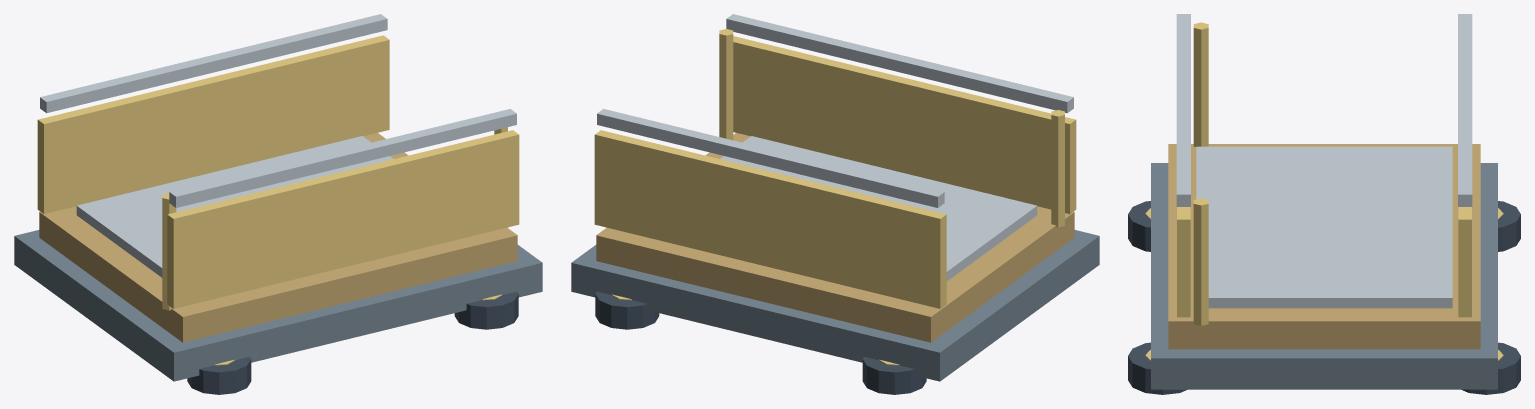
File: grua_carro.glb
The picture shows the model from 3 angles, left to right: view 1: azimuth 30°, elevation 25°; view 2: azimuth 150°, elevation 25°; view 3: azimuth 270°, elevation 25°; orthographic projection. The views are drawn at different scales.
Parts seen in each view (by area): view 1: grua_carro; view 2: grua_carro; view 3: grua_carro.
Part boxes in pixels (x1=…): grua_carro: x1=14, y1=14, x2=542, y2=394; grua_carro: x1=571, y1=14, x2=1099, y2=394; grua_carro: x1=1128, y1=14, x2=1520, y2=394.
Bounding box in the file's own units: 2.4 × 1.18 × 2.04.
